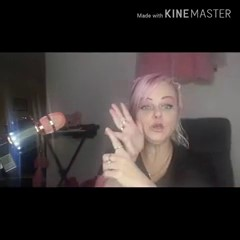U: (99, 101, 147, 183)
